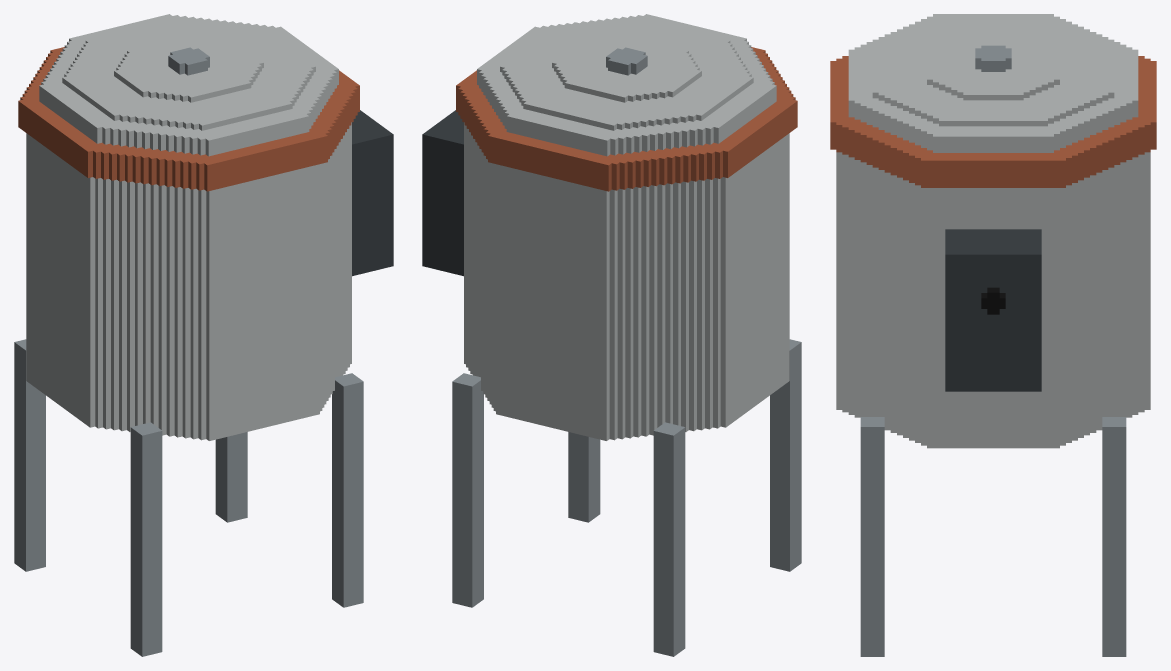
Rendered from glassblowers_crucible.glb.
3 renders of one model, left to right at view 1: azimuth 30°, elevation 25°; view 2: azimuth 150°, elevation 25°; view 3: azimuth 270°, elevation 25°, orthographic. The views are drawn at different scales.
Parts seen in each view (by area): view 1: glassblowers_crucible:compound; view 2: glassblowers_crucible:compound; view 3: glassblowers_crucible:compound.
Boxes of the visible parts, x1,y1,x2,y2 form: glassblowers_crucible:compound: (14, 14, 393, 656); glassblowers_crucible:compound: (422, 14, 801, 656); glassblowers_crucible:compound: (830, 14, 1156, 656).
Size of the model in its own units: 0.65 by 1 by 0.54.
